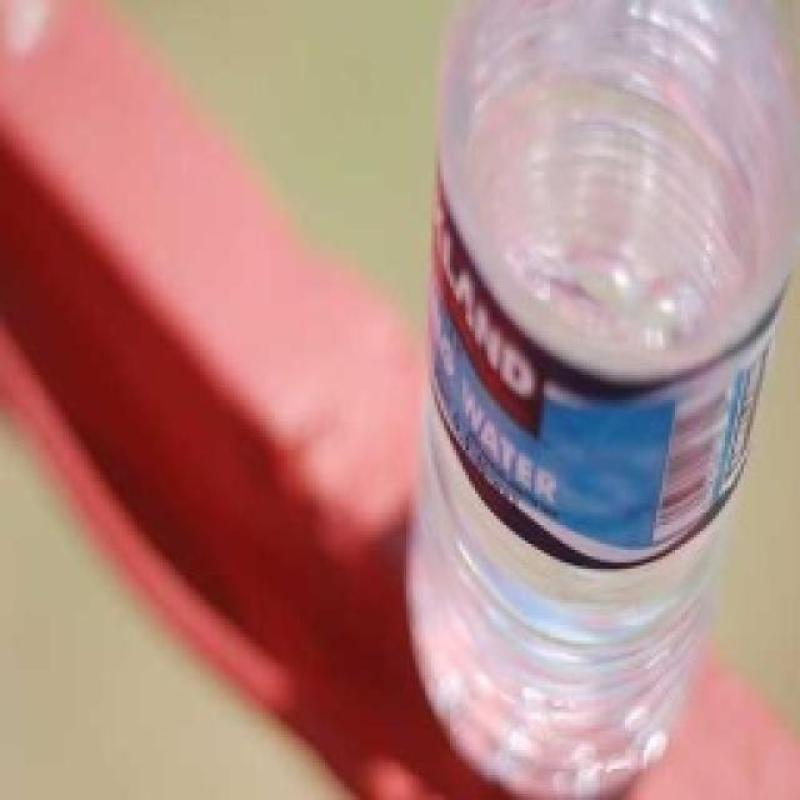botella: (402, 0, 800, 800)
